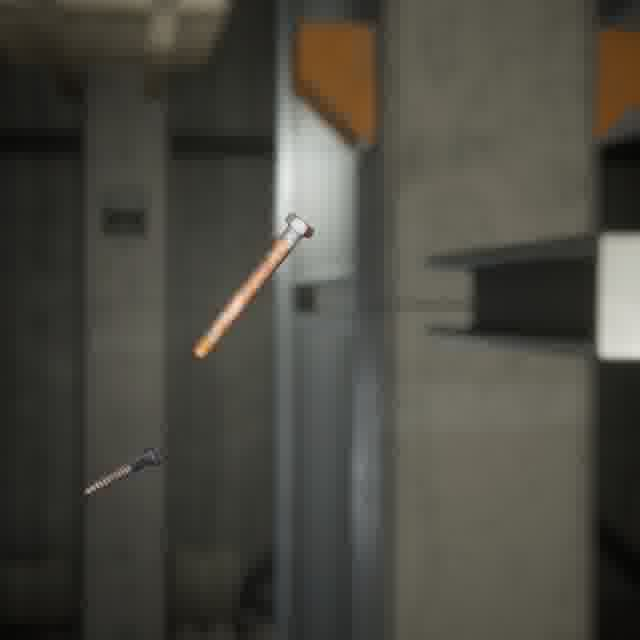bolt: (188, 207, 319, 363), (79, 439, 167, 500)
